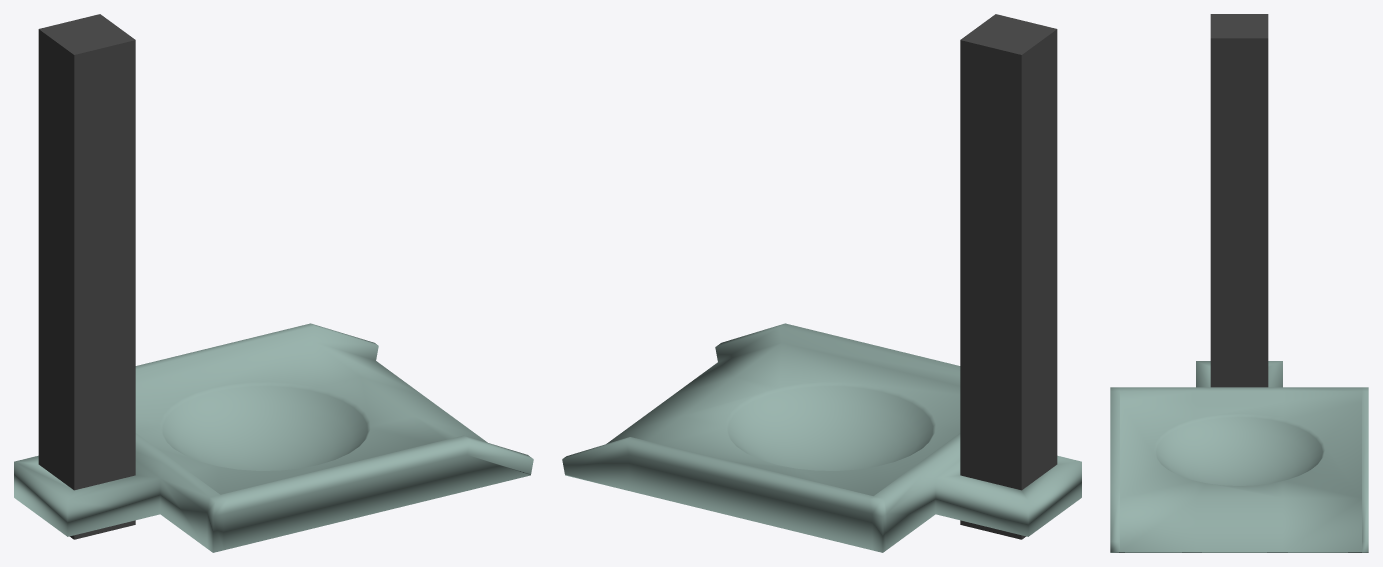
Rendered from lift.fbx.
3 renders of one model, left to right at view 1: azimuth 30°, elevation 25°; view 2: azimuth 150°, elevation 25°; view 3: azimuth 270°, elevation 25°, orthographic. The views are drawn at different scales.
Visible parts, largest first — view 1: Cube, Cube.001; view 2: Cube, Cube.001; view 3: Cube, Cube.001.
Boxes of the visible parts, <box> form: Cube: <box>14,323,533,552</box>; Cube.001: <box>38,14,135,539</box>; Cube: <box>562,323,1081,552</box>; Cube.001: <box>960,14,1057,539</box>; Cube: <box>1110,361,1368,552</box>; Cube.001: <box>1210,14,1268,387</box>.
Size of the model in its own units: 892 by 1000 by 595.
